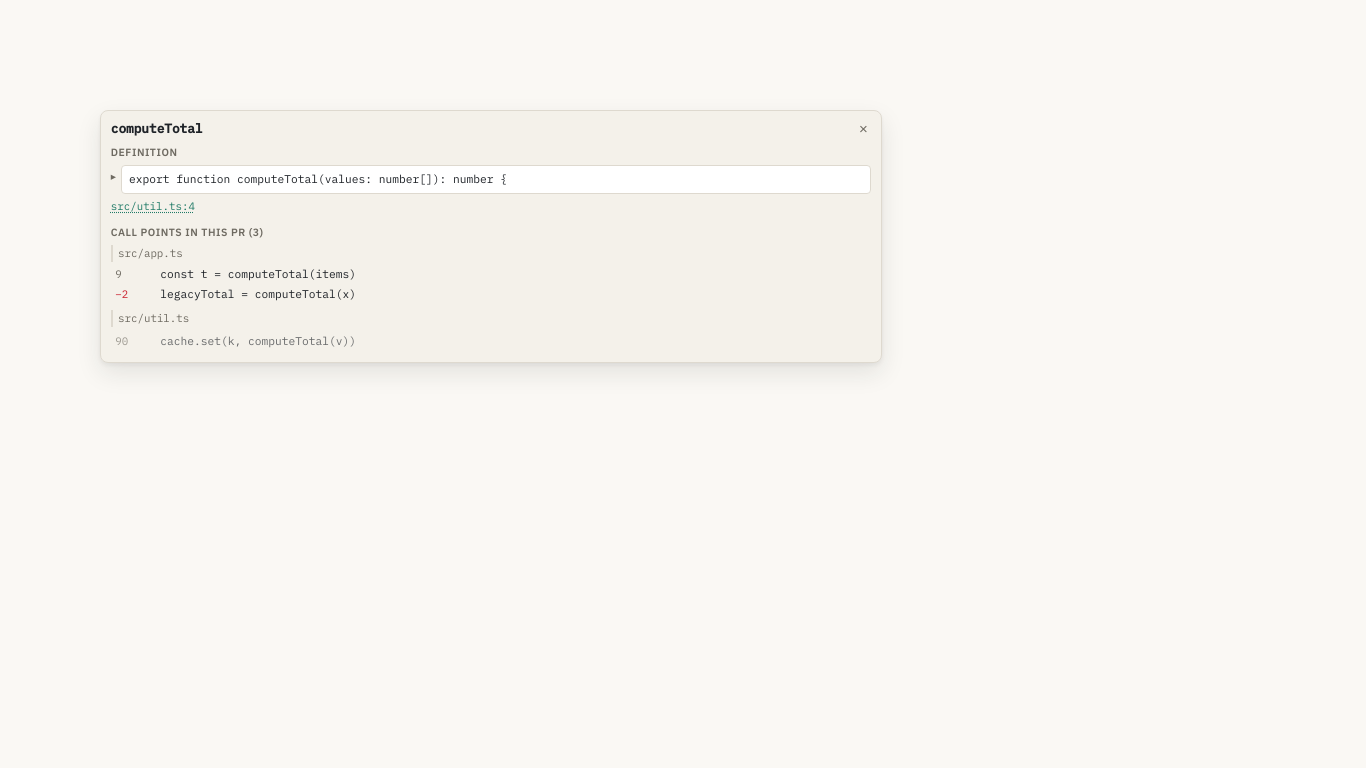
SymbolPopover — definition peek › expands to the definition body with real line numbers, and collapses again
Click the button named "Definition body at src/util.ts:4" at (114, 174), box [111,165,118,182]
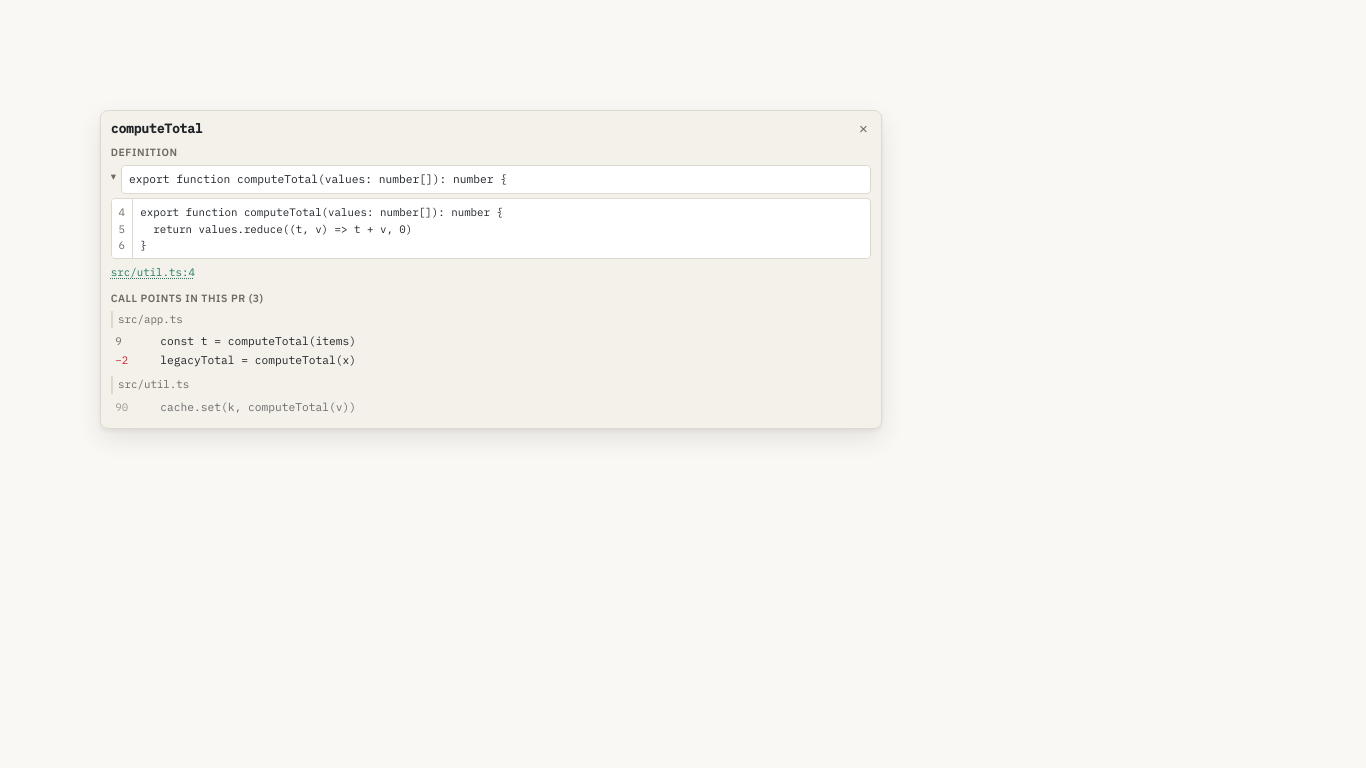
Expected: the button named "Definition body at src/util.ts:4" is expanded
Expected: the element with test id "definition-peek" shows "return values.reduce((t, v) => t + v, 0)", [140,205,503,252]
Click the button named "Definition body at src/util.ts:4" at (114, 174), box [111,165,118,182]
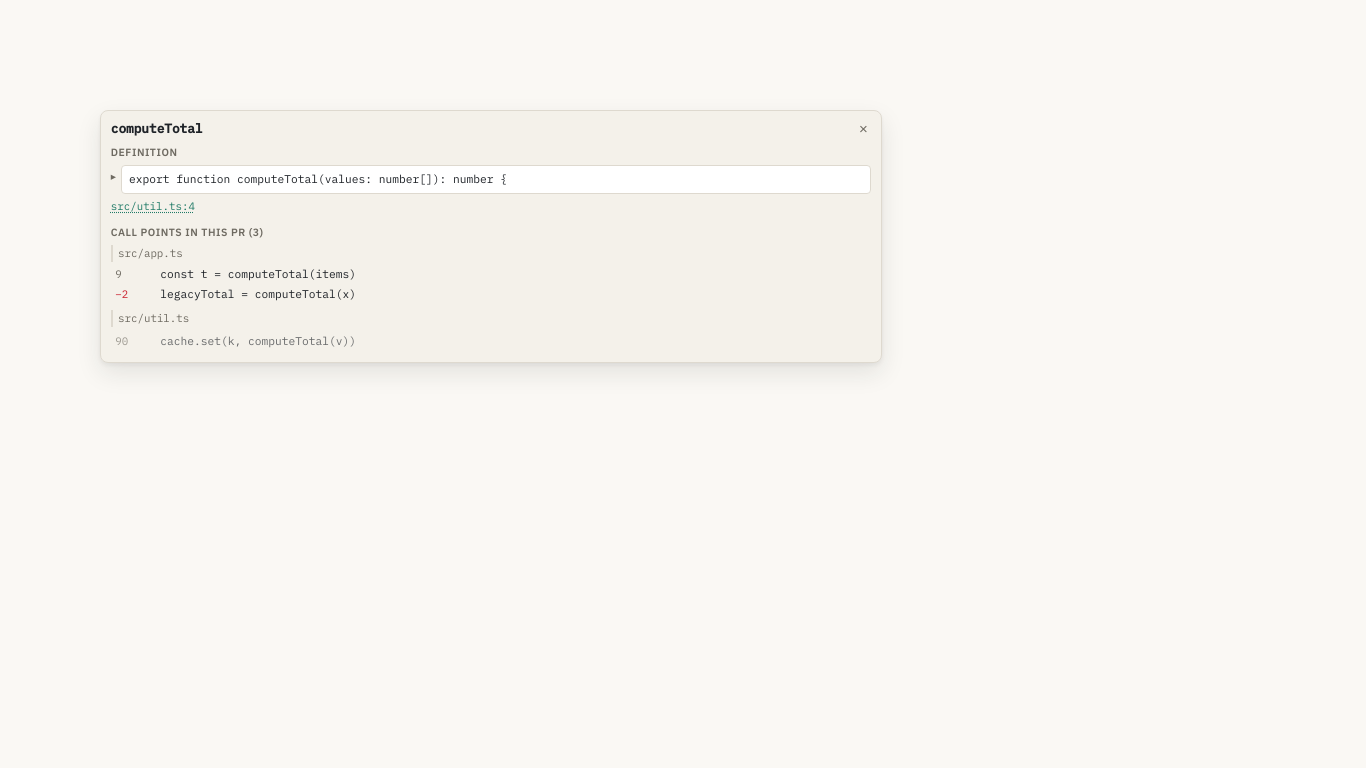
Expected: the button named "Definition body at src/util.ts:4" is collapsed, [111,165,118,182]
Expected: the element with test id "definition-peek" is gone
